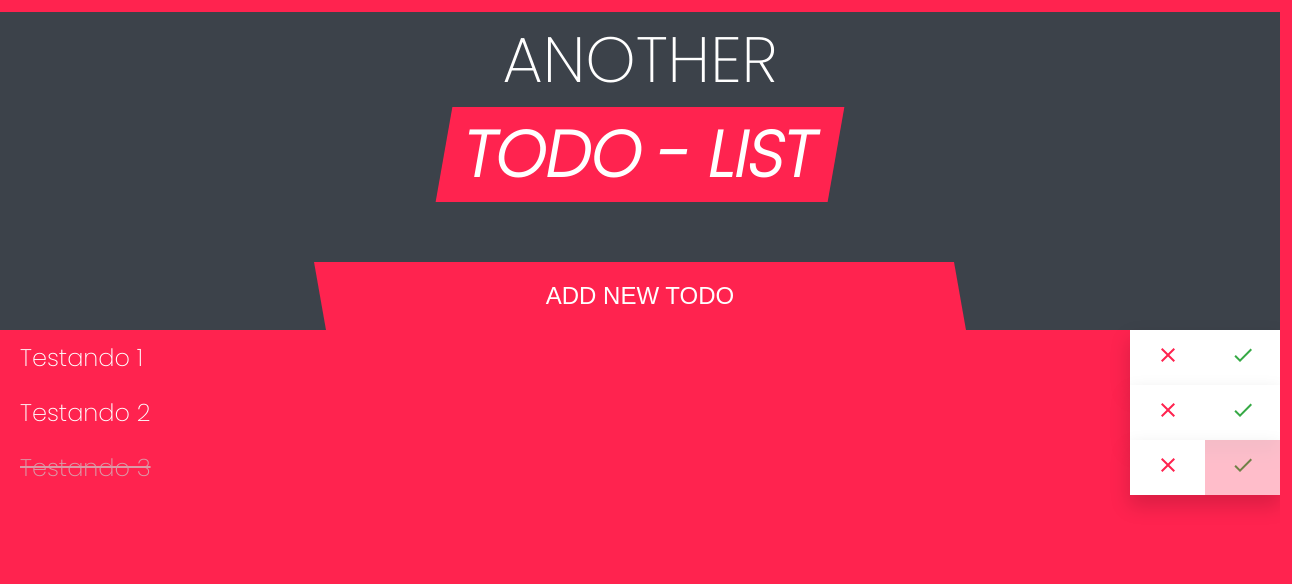
Scenario: Home actions success › Should add a new todo on the top of the list
This screenshot has width=1292, height=584.
Expected: the text "Testando 1" is shown, [20, 341, 143, 374]
Type "New todo" into the field with test id "todoform-input" at (640, 296), box [320, 262, 960, 330]
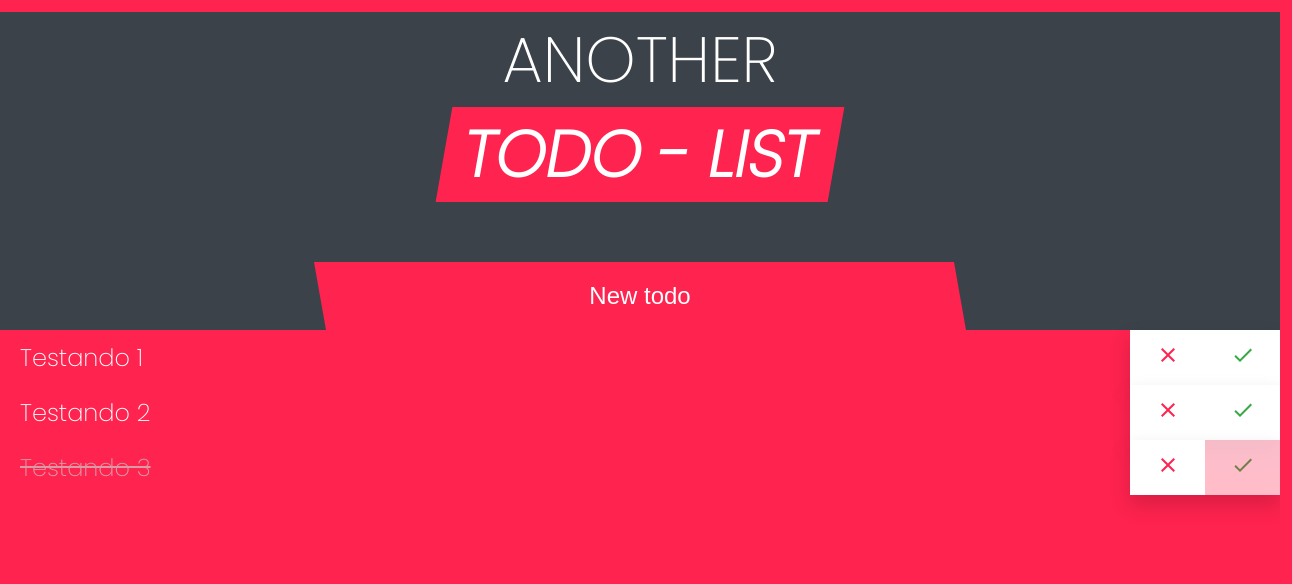
Press Enter
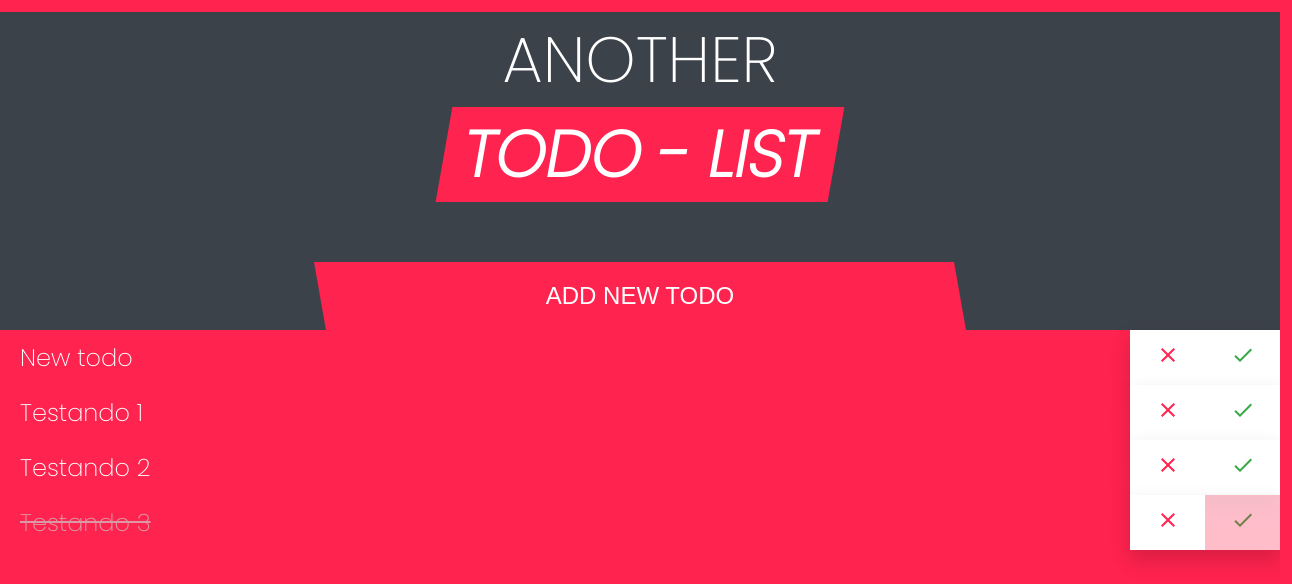
Expected: the text with test id "todo-title" reads "New todo", [20, 341, 133, 374]
